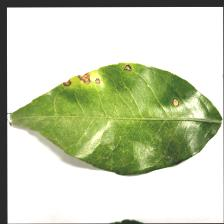canker: (46, 61, 191, 116)
